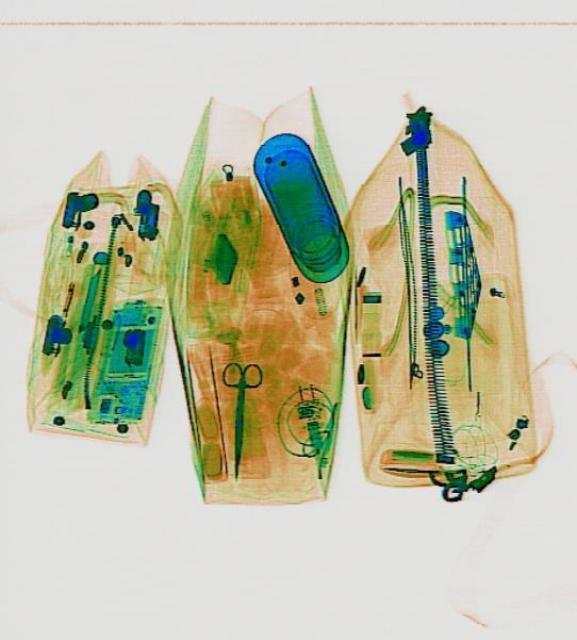Scissors: (215, 360, 261, 482)
